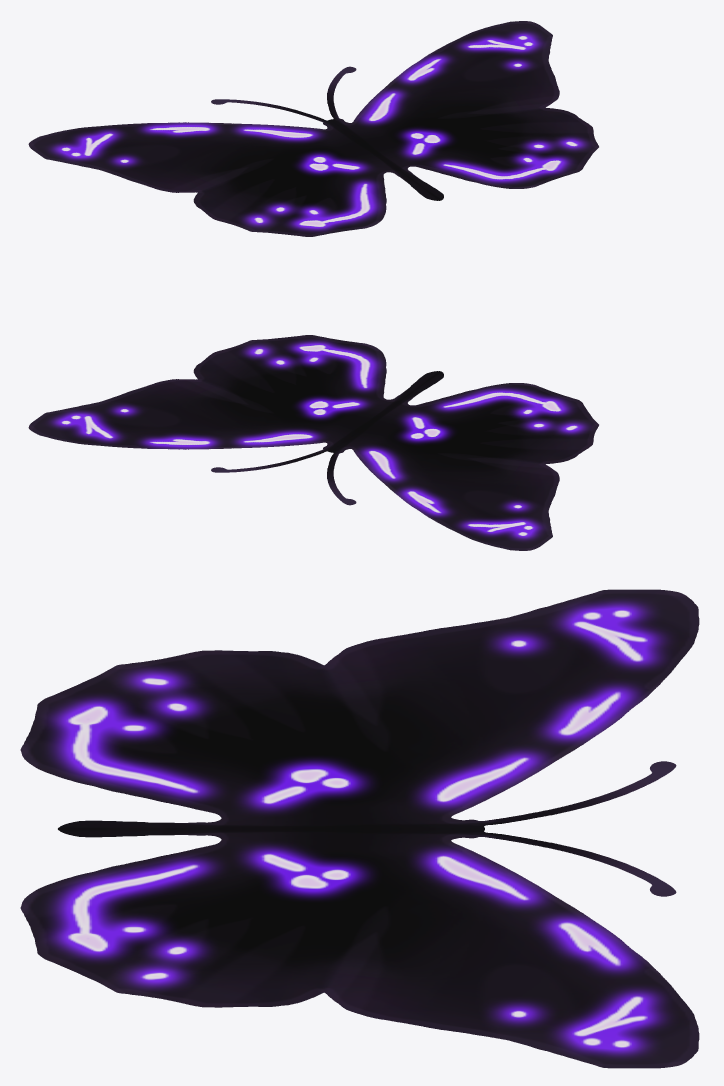
File: HawkmothAkuma_Dark.fbx
The picture shows the model from 3 angles, top to bottom: view 1: azimuth 30°, elevation 25°; view 2: azimuth 150°, elevation 25°; view 3: azimuth 270°, elevation 25°; orthographic projection. The views are drawn at different scales.
Parts seen in each view (by area): view 1: geo_HawkmothAkumaDark_WingL, geo_HawkmothAkumaDark_WingR; view 2: geo_HawkmothAkumaDark_WingR, geo_HawkmothAkumaDark_WingL; view 3: geo_HawkmothAkumaDark_WingL, geo_HawkmothAkumaDark_WingR.
Part boxes in pixels (left/top/right/bottom): geo_HawkmothAkumaDark_WingL: left=28, top=99, right=440, bottom=236; geo_HawkmothAkumaDark_WingR: left=327, top=21, right=598, bottom=200; geo_HawkmothAkumaDark_WingR: left=28, top=335, right=440, bottom=472; geo_HawkmothAkumaDark_WingL: left=327, top=371, right=598, bottom=550; geo_HawkmothAkumaDark_WingL: left=20, top=589, right=699, bottom=828; geo_HawkmothAkumaDark_WingR: left=20, top=829, right=699, bottom=1068.
Bounding box in the file's own units: 105 × 0 × 63.62.
